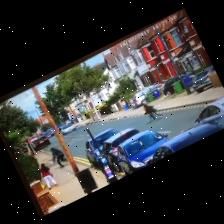person: (40, 163, 58, 189), (144, 104, 164, 120), (51, 148, 67, 167), (121, 100, 129, 111)
